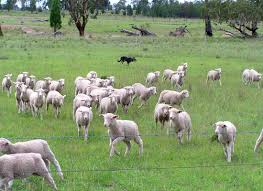sheep: (1, 126, 67, 174), (4, 149, 53, 191), (104, 114, 142, 156), (212, 120, 239, 165), (165, 106, 197, 143), (145, 99, 180, 131), (153, 86, 190, 112), (69, 104, 95, 139), (11, 79, 35, 109), (127, 83, 156, 107), (95, 90, 119, 117), (47, 91, 72, 115), (25, 90, 49, 114), (1, 65, 22, 92), (240, 67, 263, 88), (13, 70, 41, 87), (28, 75, 53, 93), (171, 72, 191, 94), (71, 92, 94, 111), (95, 75, 120, 92), (142, 66, 161, 87), (75, 73, 96, 92), (204, 66, 228, 82), (175, 56, 192, 77), (46, 77, 67, 92), (161, 64, 177, 80)
